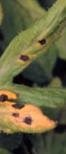Tomato leaf bacterial spot: (0, 0, 66, 142)
